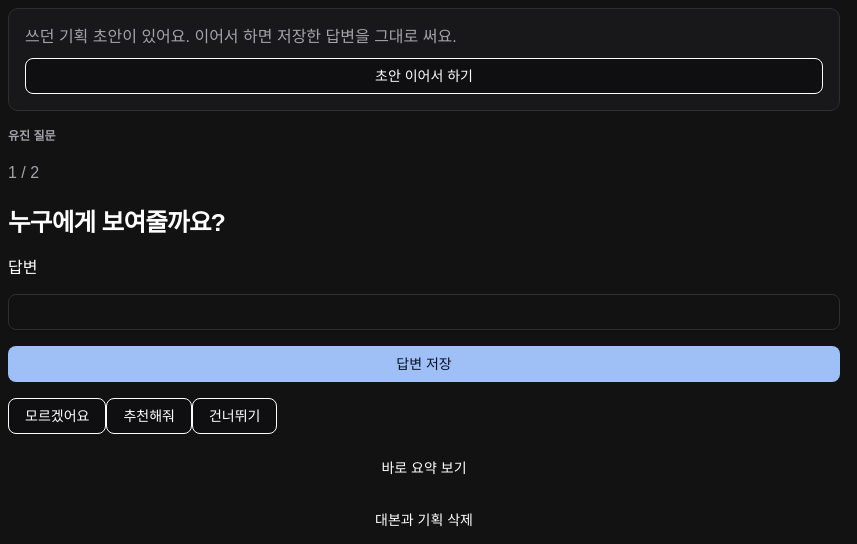
Test: CreationInterview › lets a creator durably skip the remaining interview and move to the editable summary
Check: the heading "누구에게 보여줄까요?" is shown, box [8,209,225,236]
Click the button "바로 요약 보기": (424, 468) [8,450,840,486]
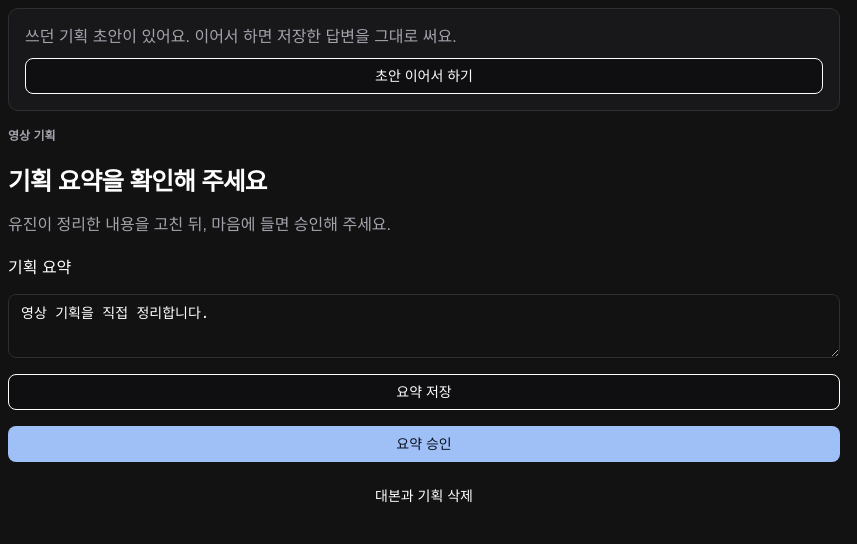
Check: the text box labelled "기획 요약" is shown, box [8,294,840,358]
